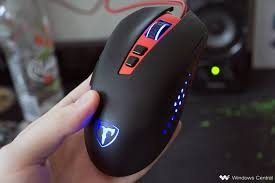mouse: (86, 4, 212, 172)
